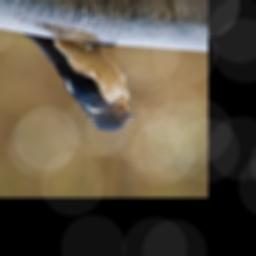Swallow: (24, 32, 137, 133)
